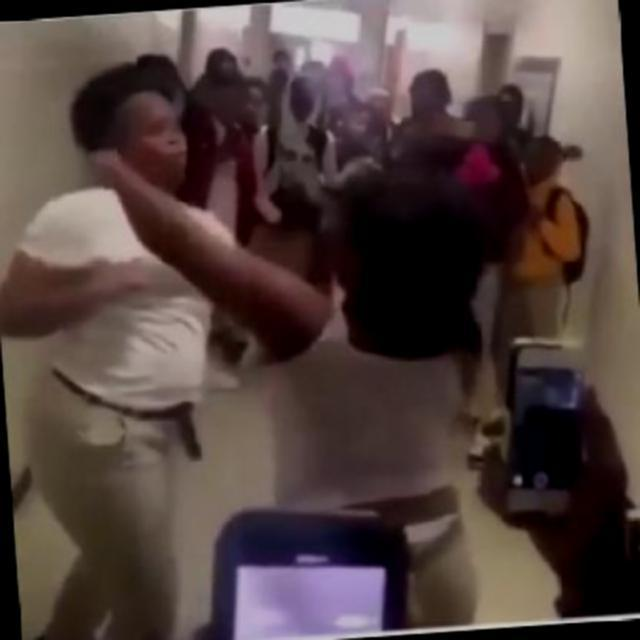fight: (0, 37, 517, 554)
